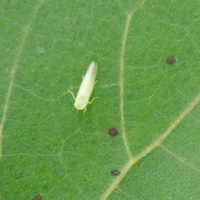insect: (70, 61, 97, 111)
